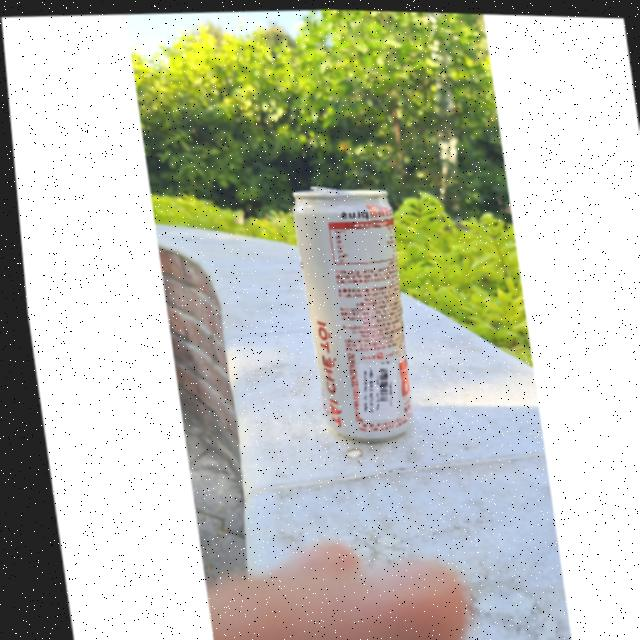Coca Cola Plus: (277, 175, 419, 442)
